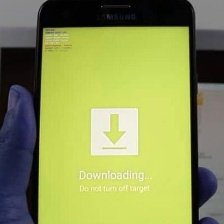phone: (29, 0, 203, 224)
